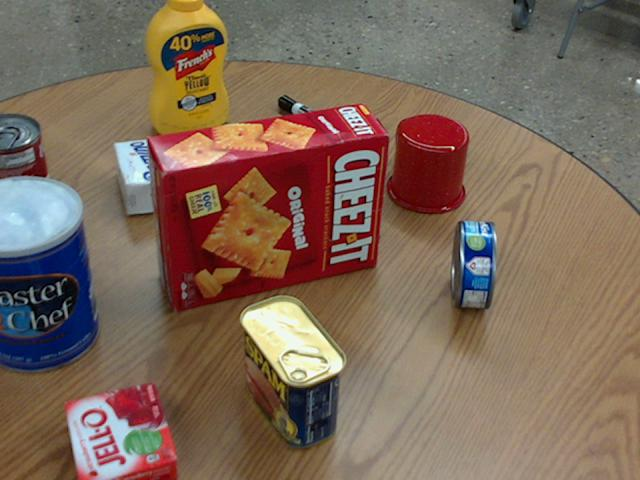cracker_box: (149, 104, 388, 308)
gelatin_box: (63, 381, 174, 479)
large_marker: (278, 94, 351, 142)
master_chef_can: (0, 176, 98, 372)
mug: (385, 114, 467, 213)
mustard_bottle: (146, 0, 227, 134)
potted_meat_can: (238, 295, 343, 447)
sugar_box: (113, 125, 282, 213)
tomato_soup_can: (0, 113, 53, 228)
tuna_fish_can: (450, 220, 496, 308)
